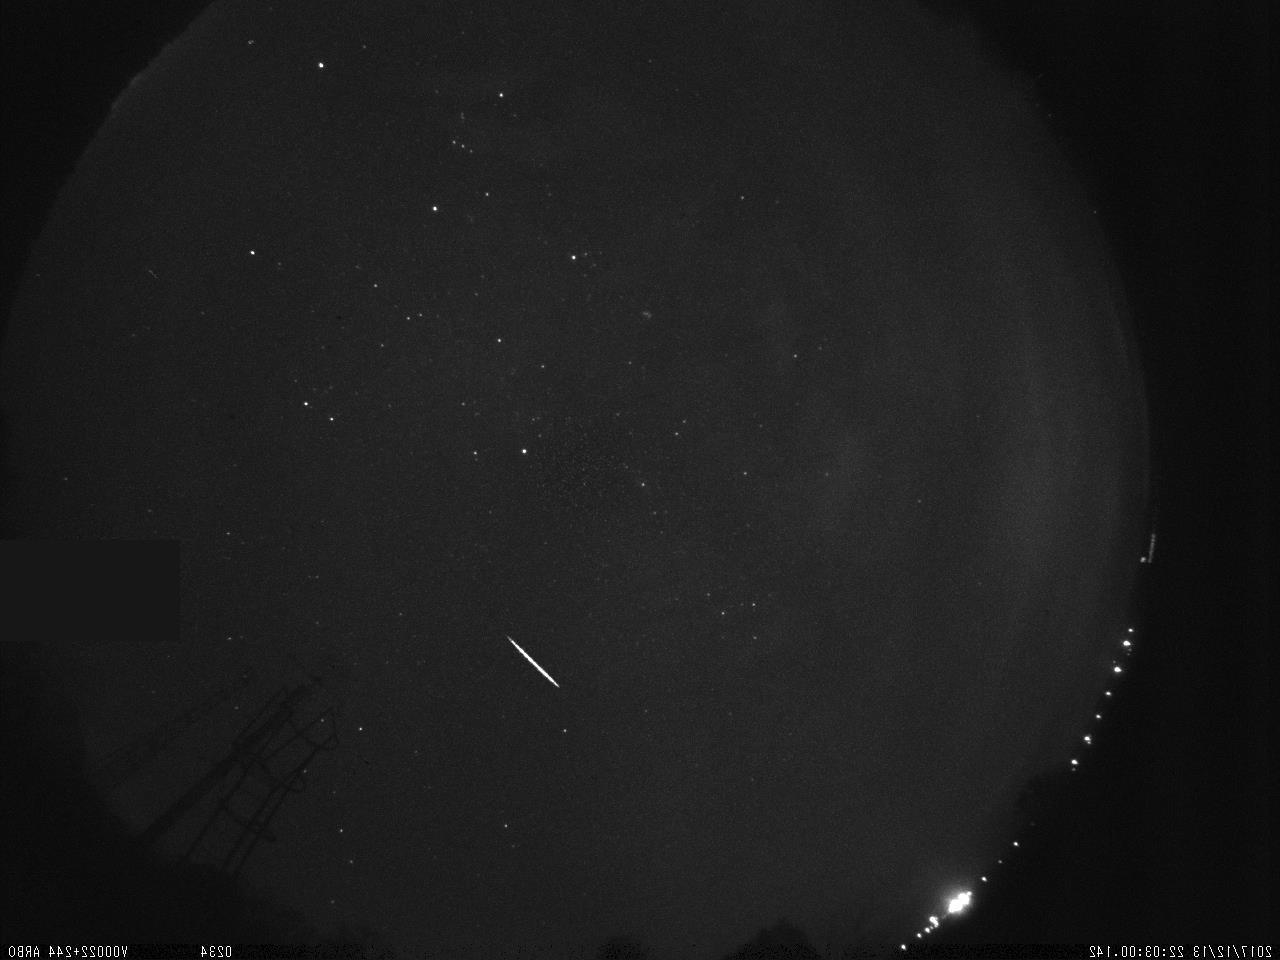meteor: (507, 627, 563, 703)
